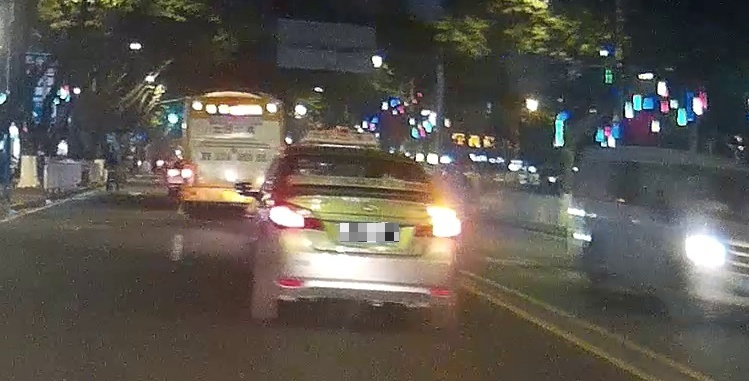L_light: (268, 200, 326, 230)
R_light: (413, 216, 460, 238)
T_light: (354, 154, 379, 161)
night-right: (250, 142, 461, 324)
plate_1: (340, 223, 399, 242)
